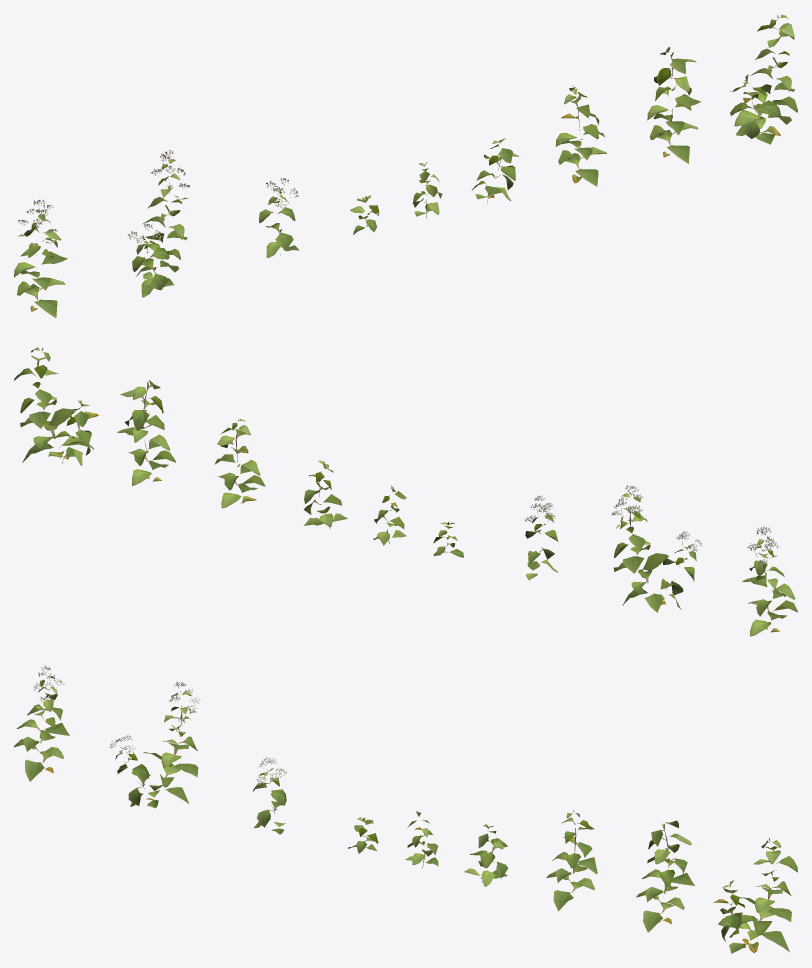
Rendered from shrub_01_lod.glb.
3 renders of one model, top to bottom at view 1: azimuth 30°, elevation 25°; view 2: azimuth 150°, elevation 25°; view 3: azimuth 330°, elevation 25°, orthographic. The views are drawn at different scales.
Parts seen in each view (by area): view 1: shrub_01_a; view 2: shrub_01_a; view 3: shrub_01_a.
Part boxes in pixels (bbox=[...]): shrub_01_a: bbox=[14, 14, 797, 317]; shrub_01_a: bbox=[14, 347, 797, 636]; shrub_01_a: bbox=[14, 665, 797, 953].
Size of the model in its own units: 2.59 by 0.3988 by 0.2222.
1 material, 1 textured.
